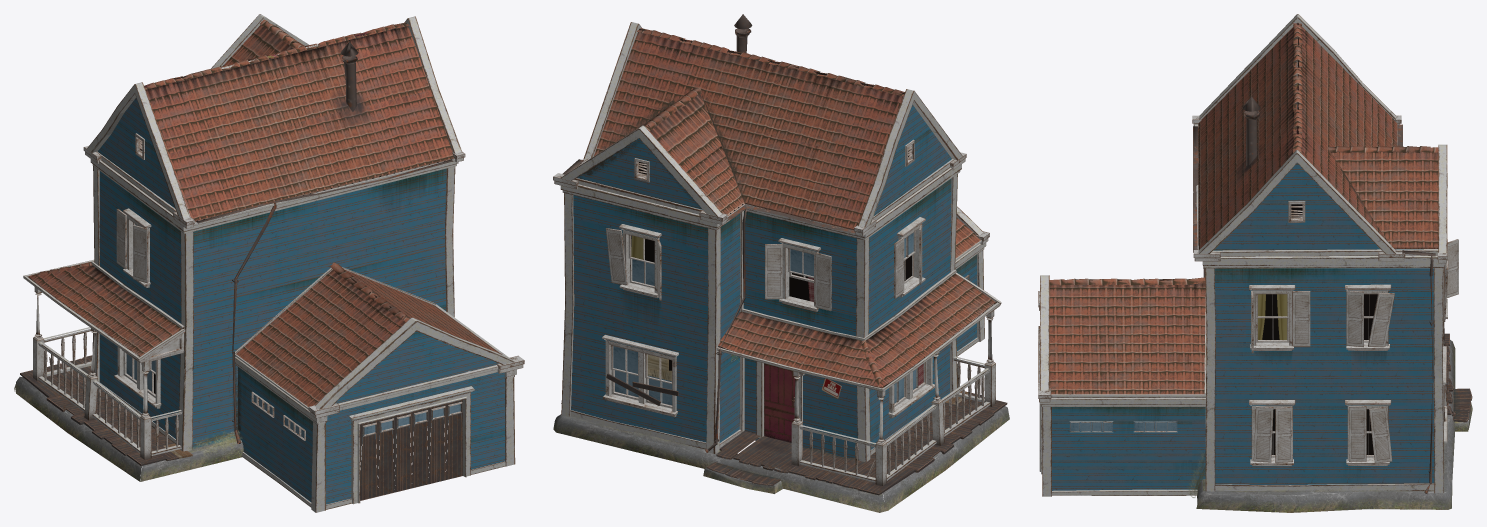
Rendered from casa_barrio1.glb.
3 views of the same model, side by side, from view 1: azimuth 30°, elevation 25°; view 2: azimuth 150°, elevation 25°; view 3: azimuth 270°, elevation 25° (orthographic).
Visible parts, largest first — view 1: casa_barrio1; view 2: casa_barrio1; view 3: casa_barrio1.
Boxes of the visible parts, x1=… form: casa_barrio1: x1=14, y1=14, x2=524, y2=512; casa_barrio1: x1=553, y1=14, x2=1009, y2=512; casa_barrio1: x1=1038, y1=14, x2=1472, y2=512.
Size of the model in its own units: 7.5 by 7.76 by 8.19.
Materials: 2 (2 with a texture image).
